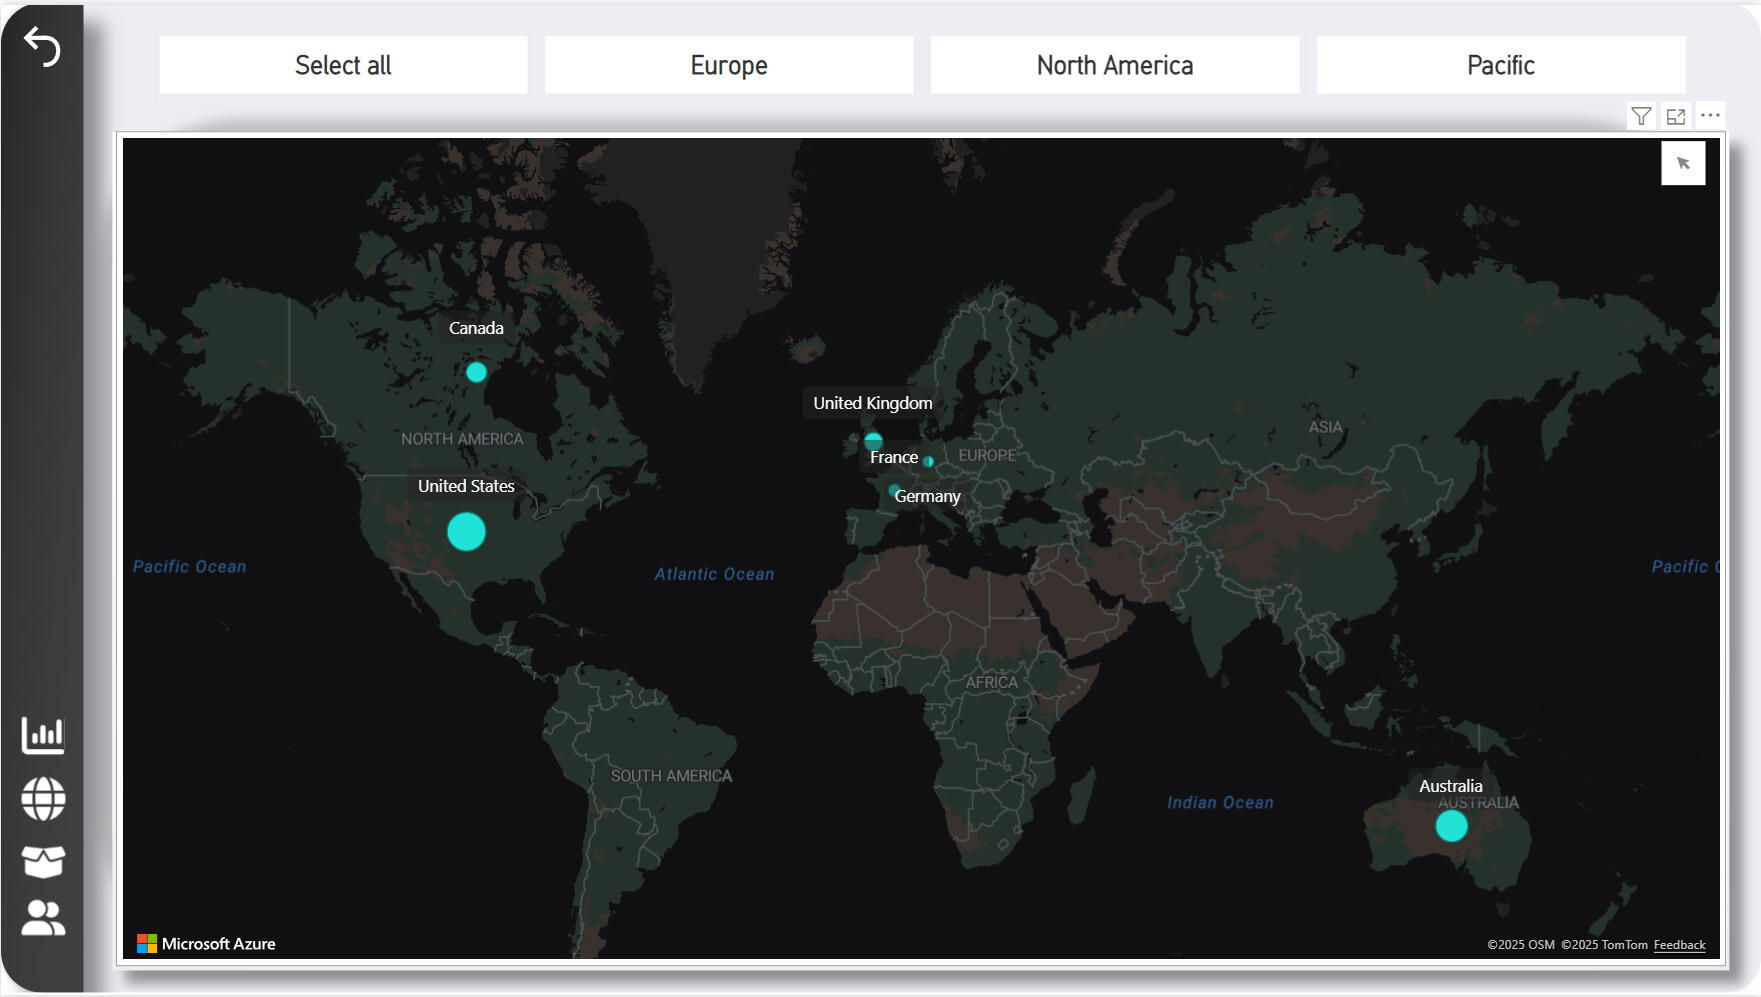

The dashboard page shown, as its layout file describes it:
{"tool":"powerbi","page":{"name":"Map","canvas":[1280,720],"ordinal":1},"visuals":[{"type":"azureMap","fields":{"Category":["Territory Lookup.Country"],"Size":["Measure Table.Total Orders"]},"box":[83.3,92.2,1171.1,606.7],"z":0},{"type":"actionButton","box":[10.7,511.6,40,39.2],"z":0,"group":"g1"},{"type":"slicer","fields":{"Values":["Territory Lookup.Continent"]},"box":[84,10,1171,67],"z":1000},{"type":"actionButton","box":[10.7,557.4,40,40],"z":1000,"group":"g1"},{"type":"actionButton","box":[10,10,44.3,40],"z":2000},{"type":"actionButton","box":[10.7,643.3,40,40],"z":2000,"group":"g1"},{"type":"group","id":"g1","title":"Nav Button","box":[10.7,511.6,40,171.2],"z":3000},{"type":"actionButton","box":[10.7,603.3,40,40],"z":3000,"group":"g1"}]}

Visuals, with their boxes on the page's 1280x720 design canvas (x1, y1, x2, y2). These are canvas units, not pixel positions in the 1761x997 screenshot, which may show the page scaled, cropped or inside an application window:
azureMap - Territory Lookup.Country x Measure Table.Total Orders: l=83, t=92, r=1254, b=699
actionButton: l=11, t=512, r=51, b=551
slicer - Territory Lookup.Continent: l=84, t=10, r=1255, b=77
actionButton: l=11, t=557, r=51, b=597
actionButton: l=10, t=10, r=54, b=50
actionButton: l=11, t=643, r=51, b=683
"Nav Button" group: l=11, t=512, r=51, b=683
actionButton: l=11, t=603, r=51, b=643
